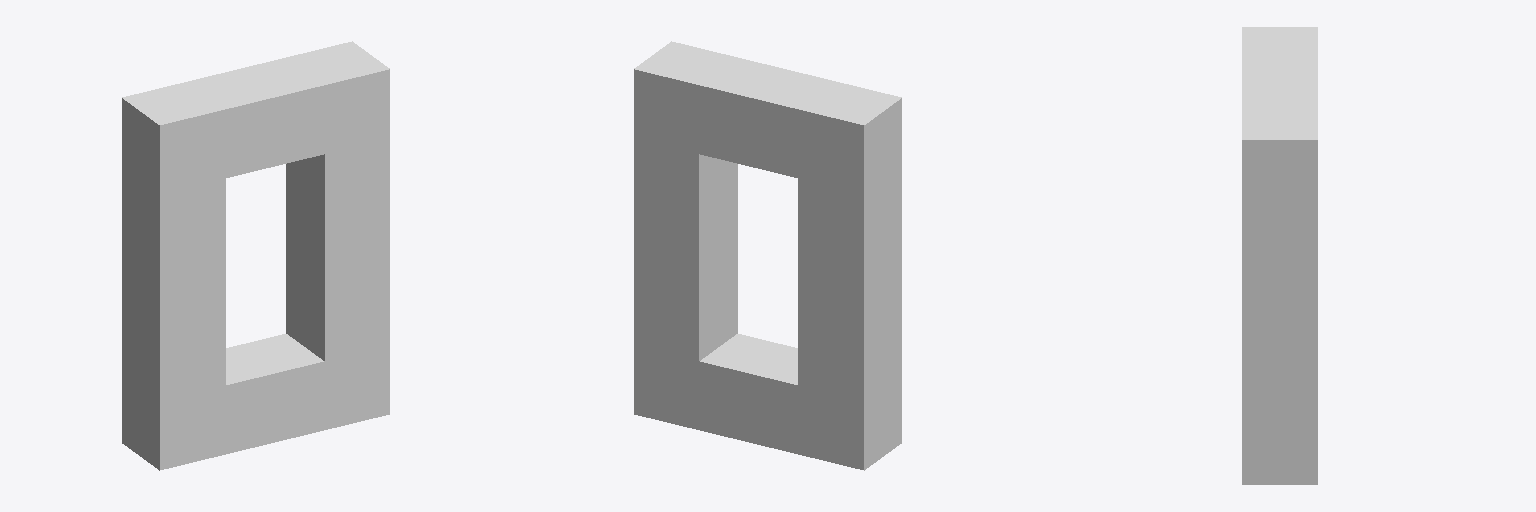
3 renders of one model, left to right at view 1: azimuth 30°, elevation 25°; view 2: azimuth 150°, elevation 25°; view 3: azimuth 270°, elevation 25°, orthographic.
Visible parts, largest first — view 1: Matrix_7; view 2: Matrix_7; view 3: Matrix_7.
Boxes of the visible parts, x1=… form: Matrix_7: x1=122, y1=41, x2=389, y2=470; Matrix_7: x1=634, y1=41, x2=901, y2=470; Matrix_7: x1=1242, y1=27, x2=1317, y2=484.
Size of the model in its own units: 7 by 10 by 2.
1 materials, 1 textured.